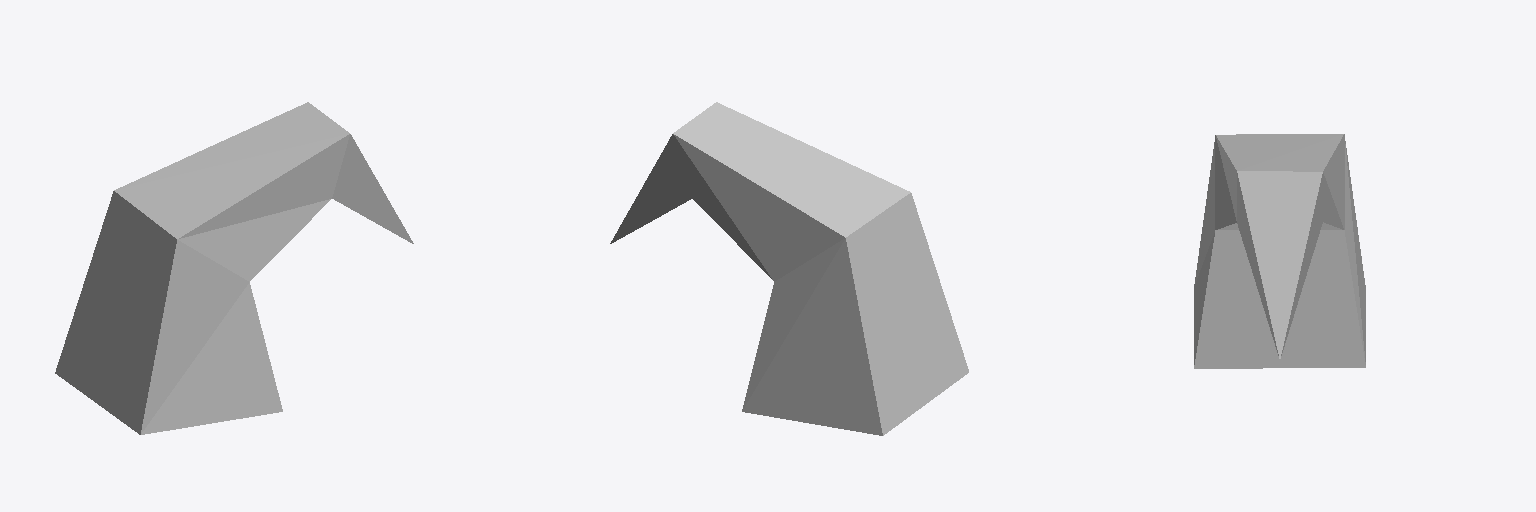
Rendered from skeletal_000027.obj.
The picture shows the model from 3 angles: view 1: azimuth 30°, elevation 25°; view 2: azimuth 150°, elevation 25°; view 3: azimuth 270°, elevation 25°; orthographic projection.
Parts seen in each view (by area): view 1: Cube; view 2: Cube; view 3: Cube.
Part boxes in pixels (x1,y1,x2,y2): Cube: (55, 102, 413, 434); Cube: (610, 102, 968, 435); Cube: (1194, 134, 1365, 368).
Bounding box in the file's own units: 4.26 × 3.09 × 2.